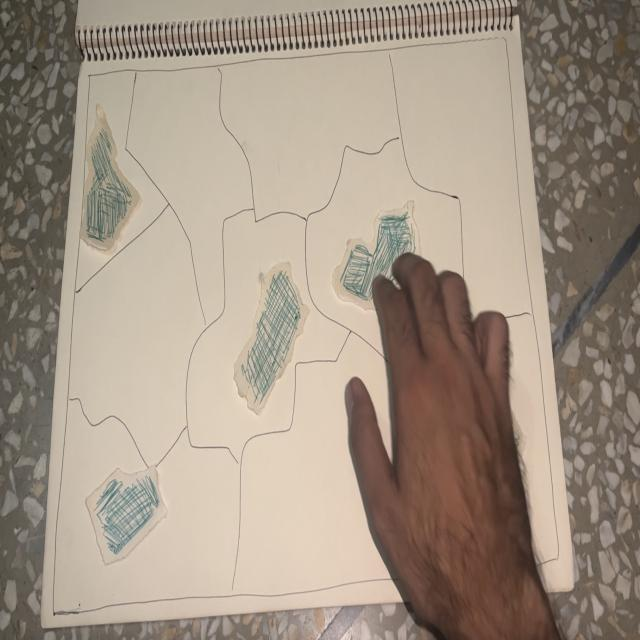paper: (232, 253, 310, 416), (81, 446, 169, 567), (78, 102, 142, 255), (330, 210, 428, 302)
